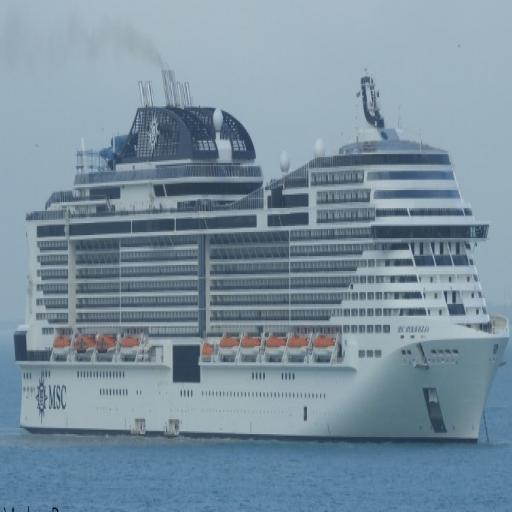cruises: (10, 58, 512, 453)
